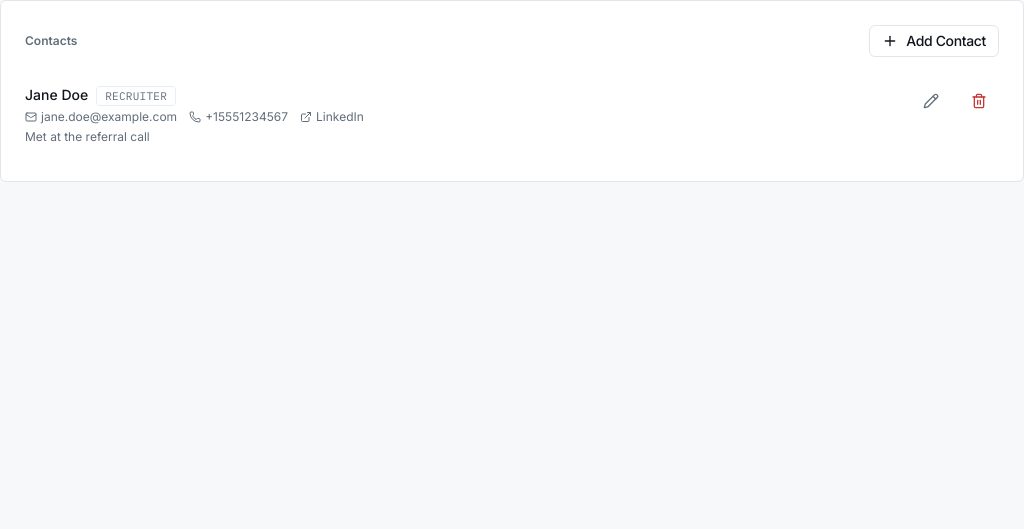
Test: Contacts › edit flow — clearing a field sends null (P0 regression guard) › pre-fills the form from the contact
What coordinates should you click on to do the following:
click the button named "edit jane doe"
I would click on:
 (931, 101)
Its box is x1=911 y1=85 x2=951 y2=117.
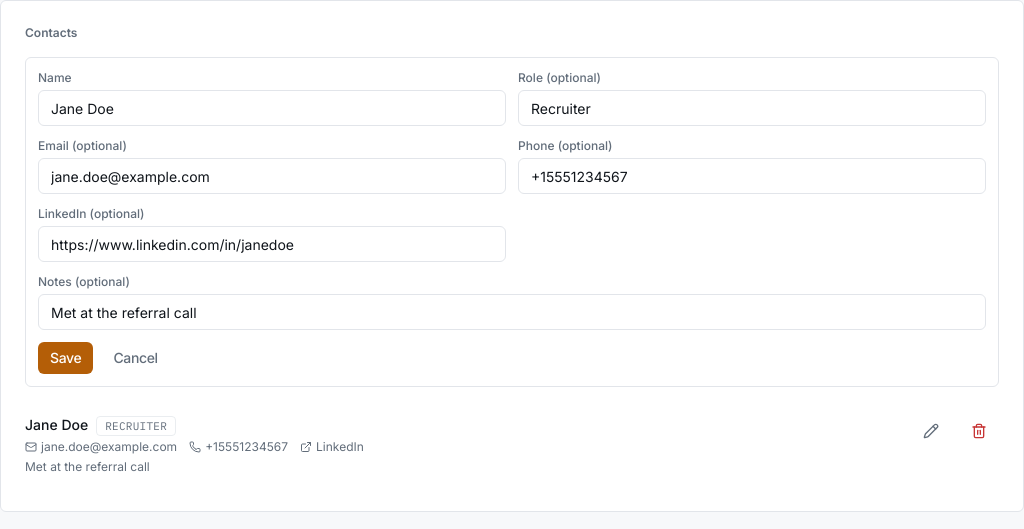
Expected: the field labelled "Name" holds "Jane Doe", x1=38 y1=90 x2=506 y2=126
Expected: the field labelled "Email (optional)" holds "jane.doe@example.com", x1=38 y1=158 x2=506 y2=194
